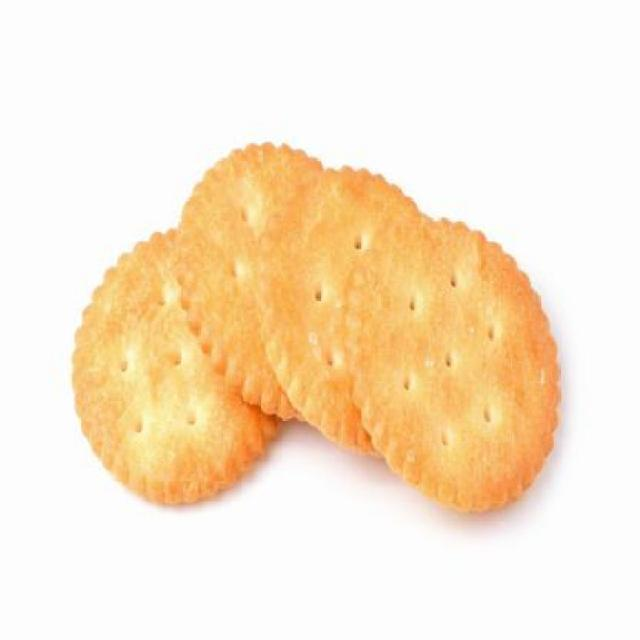Ritz cracker packaged: (68, 136, 568, 541)
